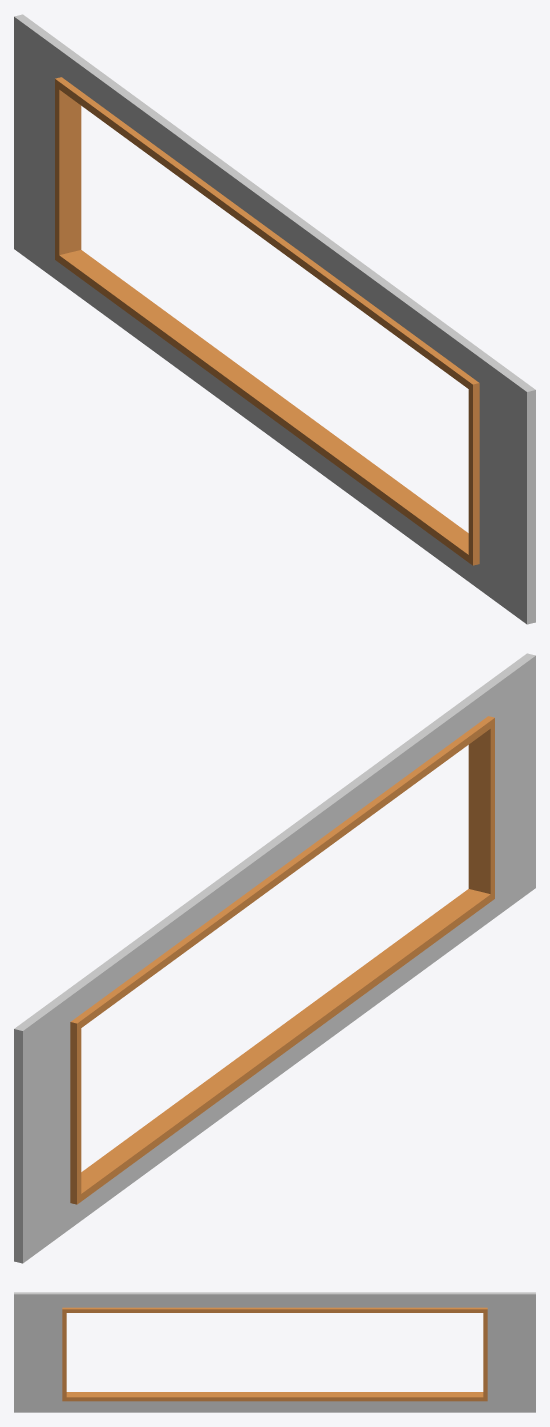
File: BasicWallWithWindow.fbx
3 views of the same model, one above another, from view 1: azimuth 30°, elevation 25°; view 2: azimuth 150°, elevation 25°; view 3: azimuth 270°, elevation 25° (orthographic). The views are drawn at different scales.
Visible parts, largest first — view 1: Cube; view 2: Cube; view 3: Cube.
Boxes of the visible parts, x1,y1,x2,y2 form: Cube: [14, 14, 535, 624]; Cube: [14, 653, 535, 1263]; Cube: [14, 1292, 535, 1412].
Size of the model in its own units: 0.2499 by 2.5 by 10.
